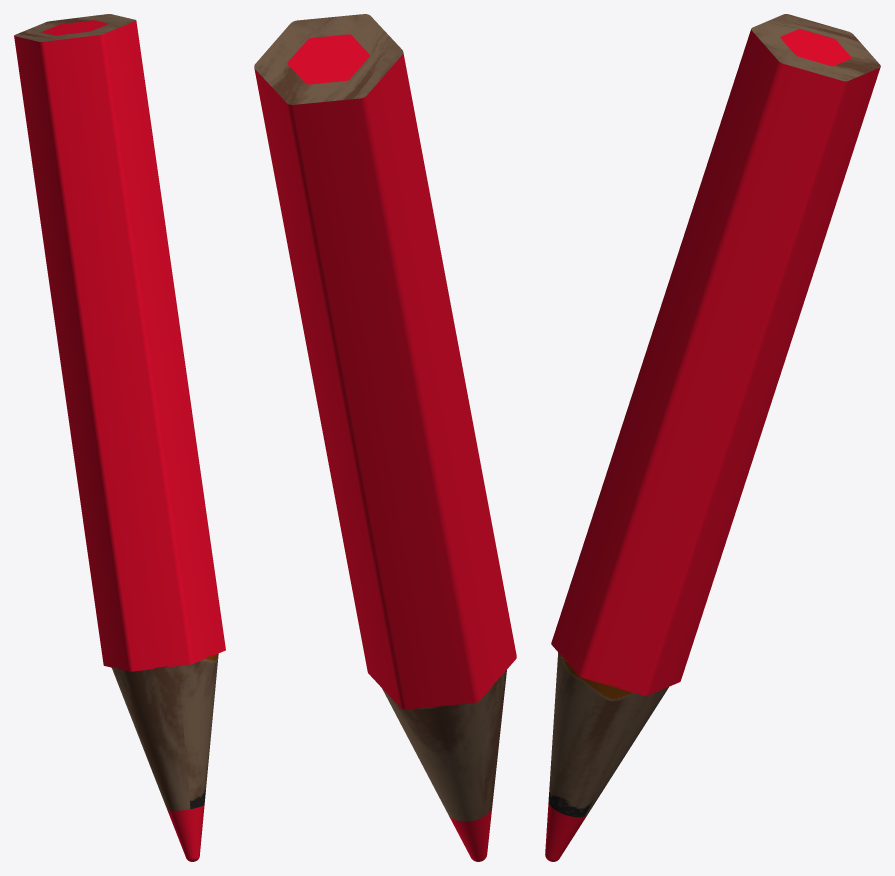
The picture shows the model from 3 angles, left to right: view 1: azimuth 30°, elevation 25°; view 2: azimuth 150°, elevation 25°; view 3: azimuth 270°, elevation 25°; orthographic projection. The views are drawn at different scales.
Parts seen in each view (by area): view 1: Da Pencil.004; view 2: Da Pencil.004; view 3: Da Pencil.004.
Part boxes in pixels (x1,y1,x2,y2): Da Pencil.004: (14, 14, 225, 861); Da Pencil.004: (254, 14, 516, 861); Da Pencil.004: (545, 14, 880, 861).
Bounding box in the file's own units: 0.1511 × 1.12 × 0.4083.
2 materials, 1 textured.
